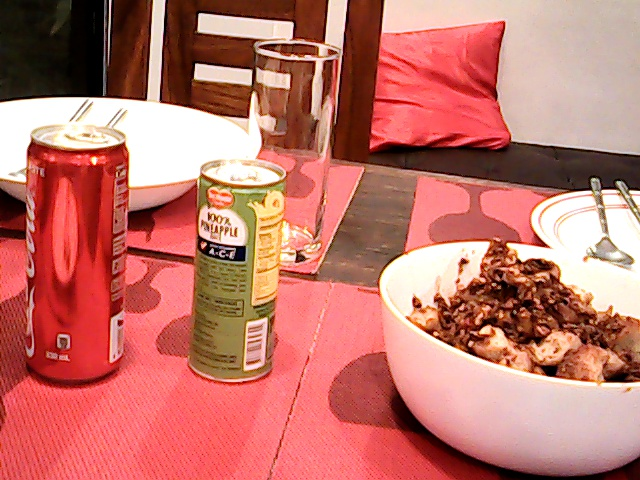Cola: (16, 119, 130, 387)
Pine Juice: (189, 157, 283, 389)
